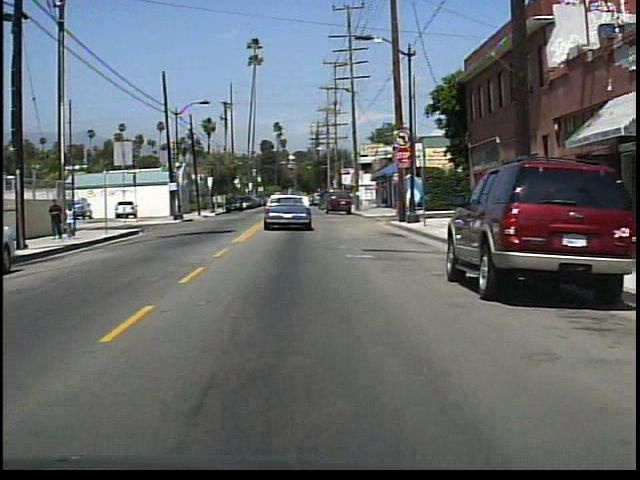person: (51, 197, 68, 241), (63, 201, 82, 240)
